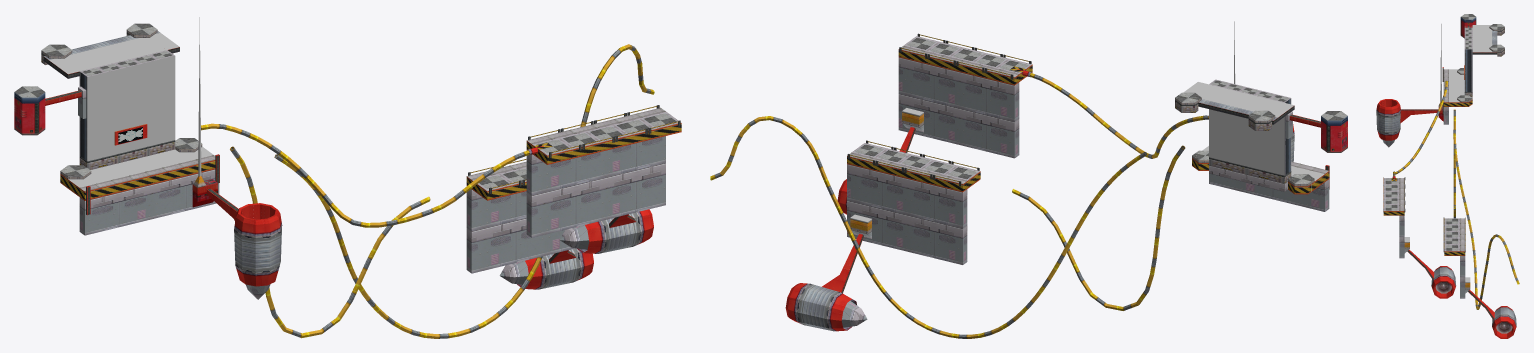
File: 2PEgg_fleet5.obj
3 renders of one model, left to right at view 1: azimuth 30°, elevation 25°; view 2: azimuth 150°, elevation 25°; view 3: azimuth 270°, elevation 25°, orthographic. The views are drawn at different scales.
Parts seen in each view (by area): view 1: obj2, obj3, Object_2; view 2: obj2, obj3, Object_2; view 3: obj2, obj3, Object_2.
Part boxes in pixels (x1,y1,x2,y2): obj2: (14, 17, 681, 338); obj3: (15, 23, 681, 207); Object_2: (56, 36, 172, 71); obj2: (710, 21, 1347, 338); obj3: (847, 36, 1347, 194); Object_2: (1189, 84, 1287, 114); obj2: (1376, 17, 1519, 338); obj3: (1383, 14, 1504, 251); Object_2: (1475, 26, 1489, 51).
Bounding box in the file's own units: 1530 × 895 × 549.
